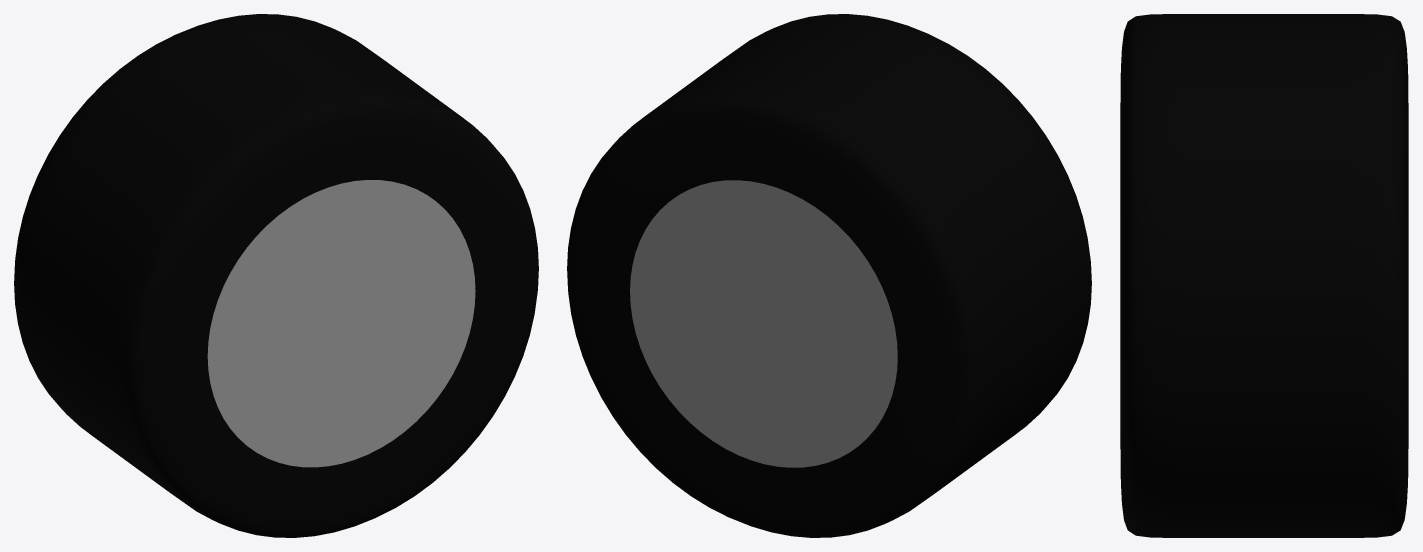
The model's file is MetrobusLlantaIzq.obj.
3 views of the same model, side by side, from view 1: azimuth 30°, elevation 25°; view 2: azimuth 150°, elevation 25°; view 3: azimuth 270°, elevation 25° (orthographic). The views are drawn at different scales.
Parts seen in each view (by area): view 1: Cylinder.006; view 2: Cylinder.006; view 3: Cylinder.006.
Part boxes in pixels (x1,y1,x2,y2): Cylinder.006: [14, 14, 538, 537]; Cylinder.006: [567, 14, 1091, 537]; Cylinder.006: [1120, 14, 1408, 537].
Bounding box in the file's own units: 0.9483 × 0.9483 × 0.5208.
